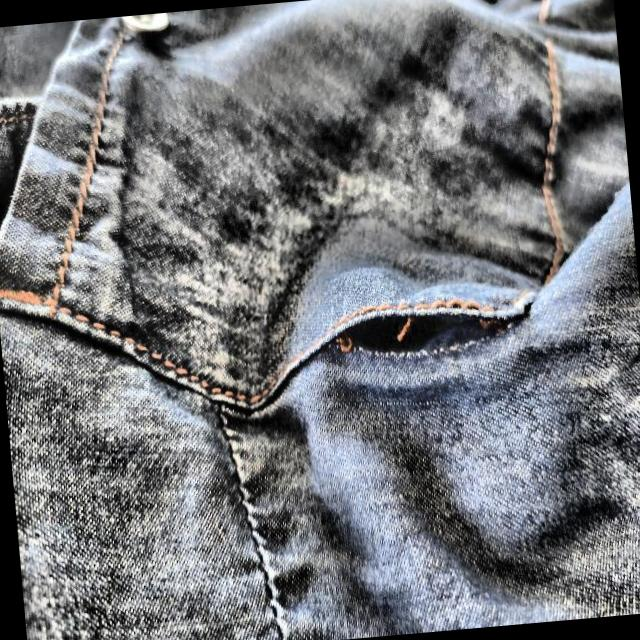cut: (296, 284, 542, 382)
